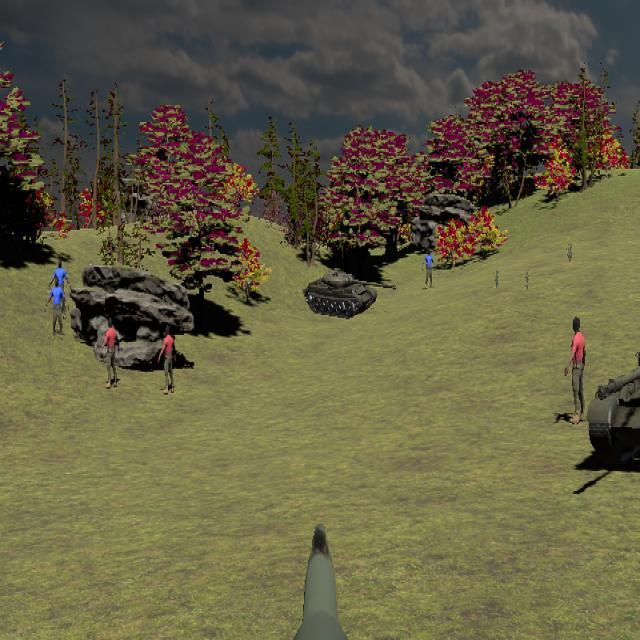Human: (565, 316, 586, 425), (101, 316, 121, 389), (46, 278, 68, 341), (50, 258, 72, 319), (159, 325, 177, 395)
Tank: (588, 337, 640, 468), (303, 269, 396, 319)
